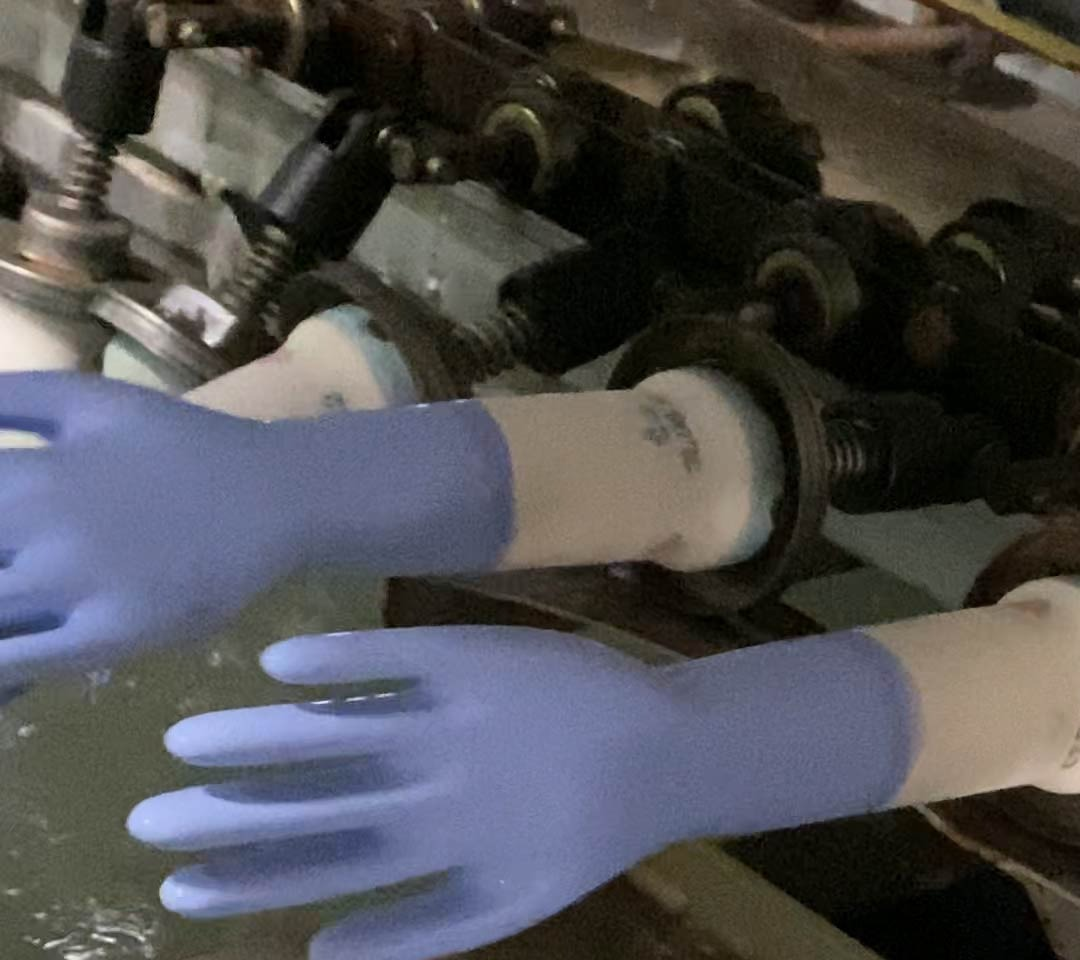glove: (120, 621, 929, 956), (1, 367, 525, 671)
